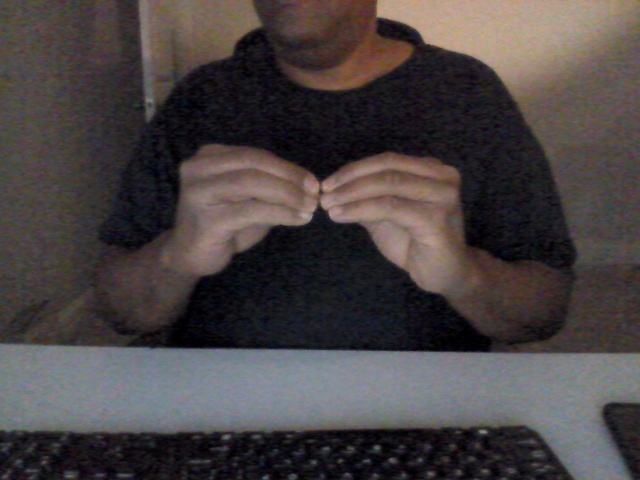more: (171, 133, 471, 300)
